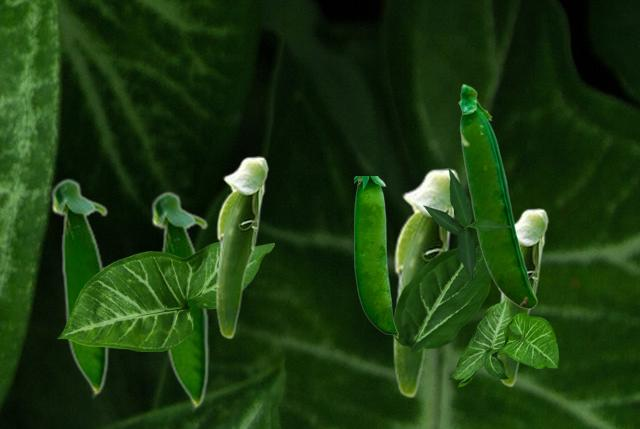pea: (458, 83, 536, 308), (392, 168, 460, 397), (50, 177, 108, 398), (150, 190, 208, 411), (215, 156, 268, 338), (496, 208, 548, 386), (354, 176, 397, 337)
